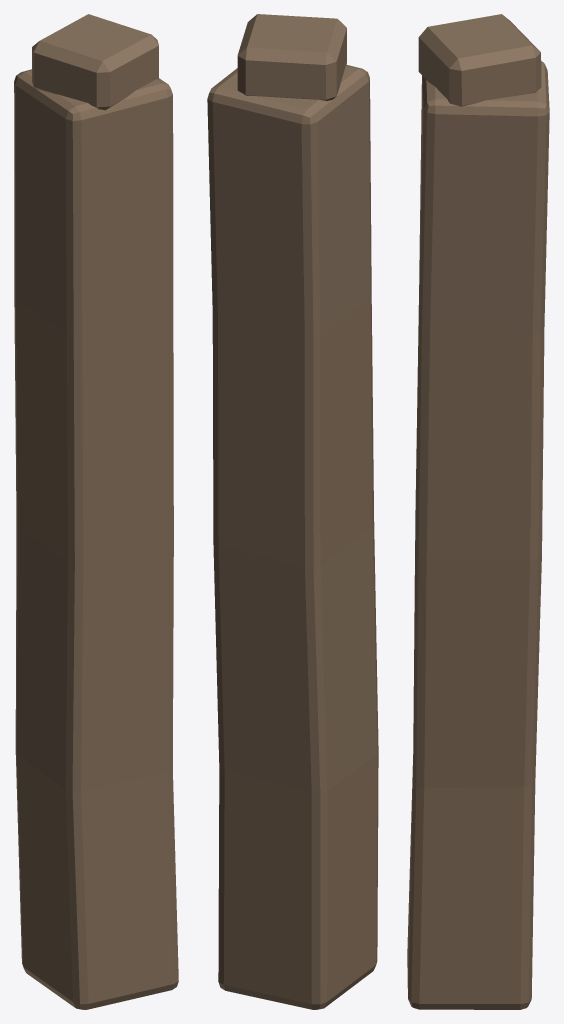
Rendered from fence_end.glb.
3 renders of one model, left to right at view 1: azimuth 30°, elevation 25°; view 2: azimuth 150°, elevation 25°; view 3: azimuth 270°, elevation 25°, orthographic.
Parts seen in each view (by area): view 1: fence_end; view 2: fence_end; view 3: fence_end.
Boxes of the visible parts, x1=… form: fence_end: x1=14, y1=14, x2=178, y2=1009; fence_end: x1=207, y1=14, x2=378, y2=1009; fence_end: x1=407, y1=14, x2=549, y2=1009.
Size of the model in its own units: 0.1362 by 1.1 by 0.1493.
